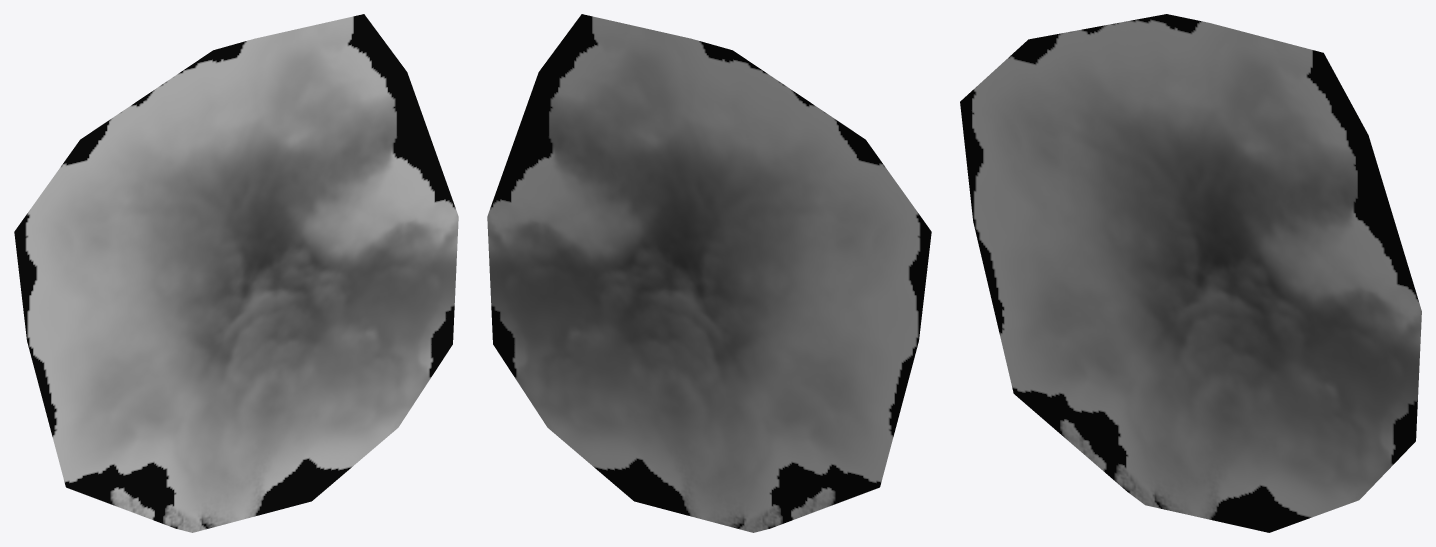
The model's file is cmoudik-C16.obj.
3 renders of one model, left to right at view 1: azimuth 30°, elevation 25°; view 2: azimuth 150°, elevation 25°; view 3: azimuth 330°, elevation 25°, orthographic. The views are drawn at different scales.
Parts seen in each view (by area): view 1: Plane; view 2: Plane; view 3: Plane.
Part boxes in pixels (left/top/right/bottom): Plane: left=14, top=14, right=458, bottom=532; Plane: left=487, top=14, right=931, bottom=532; Plane: left=960, top=14, right=1421, bottom=532.
Size of the model in its own units: 1.92 by 1.98 by 0.
Materials: 1 (1 with a texture image).
